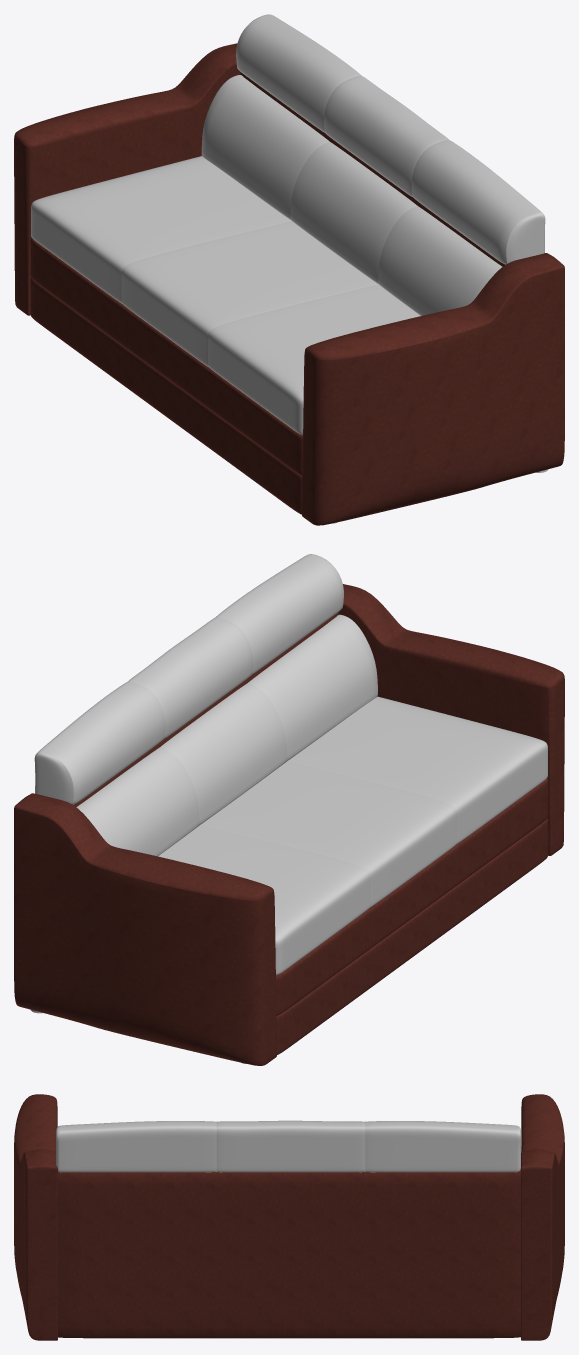
Rendered from Viola.fbx.
3 renders of one model, top to bottom at view 1: azimuth 30°, elevation 25°; view 2: azimuth 150°, elevation 25°; view 3: azimuth 270°, elevation 25°, orthographic. The views are drawn at different scales.
Parts seen in each view (by area): view 1: viola; view 2: viola; view 3: viola.
Part boxes in pixels (<box>): viola: <box>14,14,564,525</box>; viola: <box>14,554,564,1065</box>; viola: <box>14,1094,564,1340</box>.
Bounding box in the file's own units: 96.43 × 94.99 × 220.
